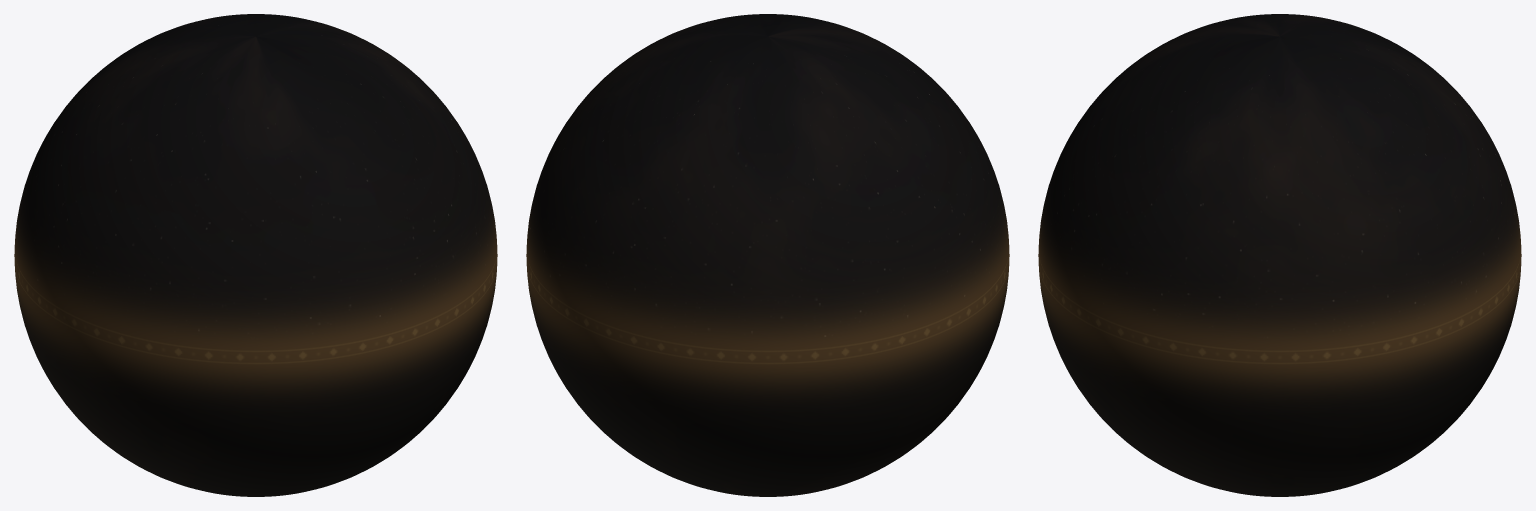
The model's file is loading_dome_dark.obj.
The picture shows the model from 3 angles, left to right: view 1: azimuth 30°, elevation 25°; view 2: azimuth 150°, elevation 25°; view 3: azimuth 270°, elevation 25°; orthographic projection.
Bounding box in the file's own units: 40 × 40 × 40.
1 material, 1 textured.
